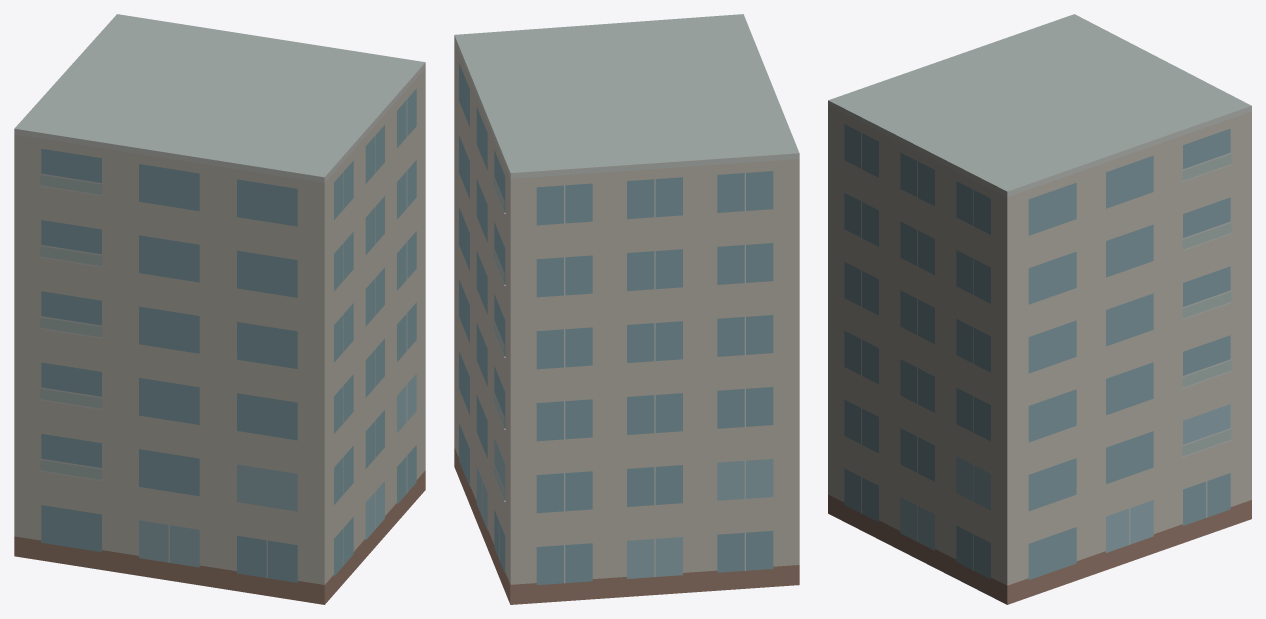
File: survey-upis-32845665.glb
The picture shows the model from 3 angles, left to right: view 1: azimuth 30°, elevation 25°; view 2: azimuth 150°, elevation 25°; view 3: azimuth 270°, elevation 25°; orthographic projection. The views are drawn at different scales.
Parts seen in each view (by area): view 1: survey-upis-32845665.tmp; view 2: survey-upis-32845665.tmp; view 3: survey-upis-32845665.tmp.
Boxes of the visible parts, box(x1,y1,x2,y2) form: survey-upis-32845665.tmp: box(14, 14, 425, 604); survey-upis-32845665.tmp: box(454, 14, 799, 604); survey-upis-32845665.tmp: box(828, 14, 1251, 604).
Size of the model in its own units: 16.88 by 18.3 by 17.01.
